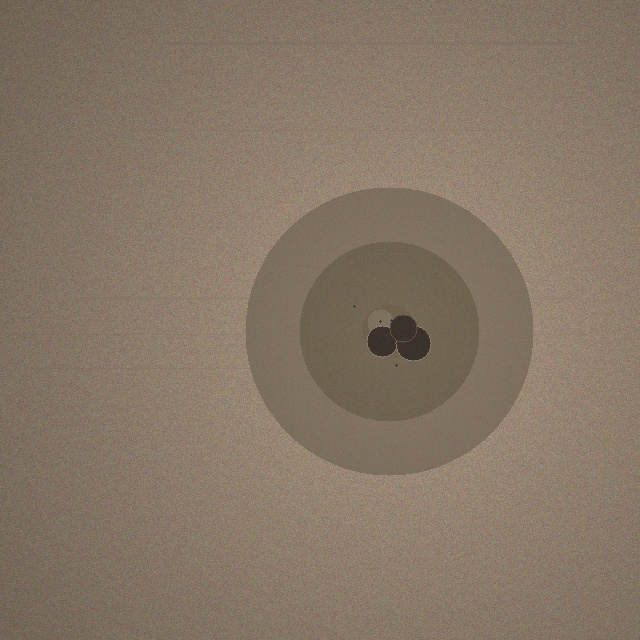shrinkage: (245, 187, 533, 475)
